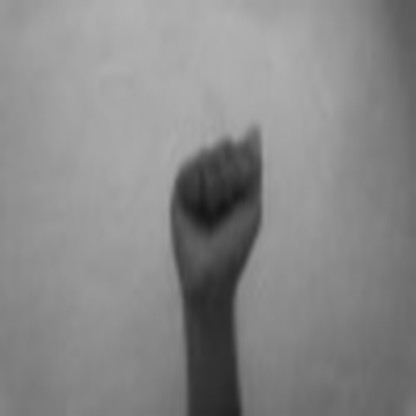a: (163, 92, 273, 284)
